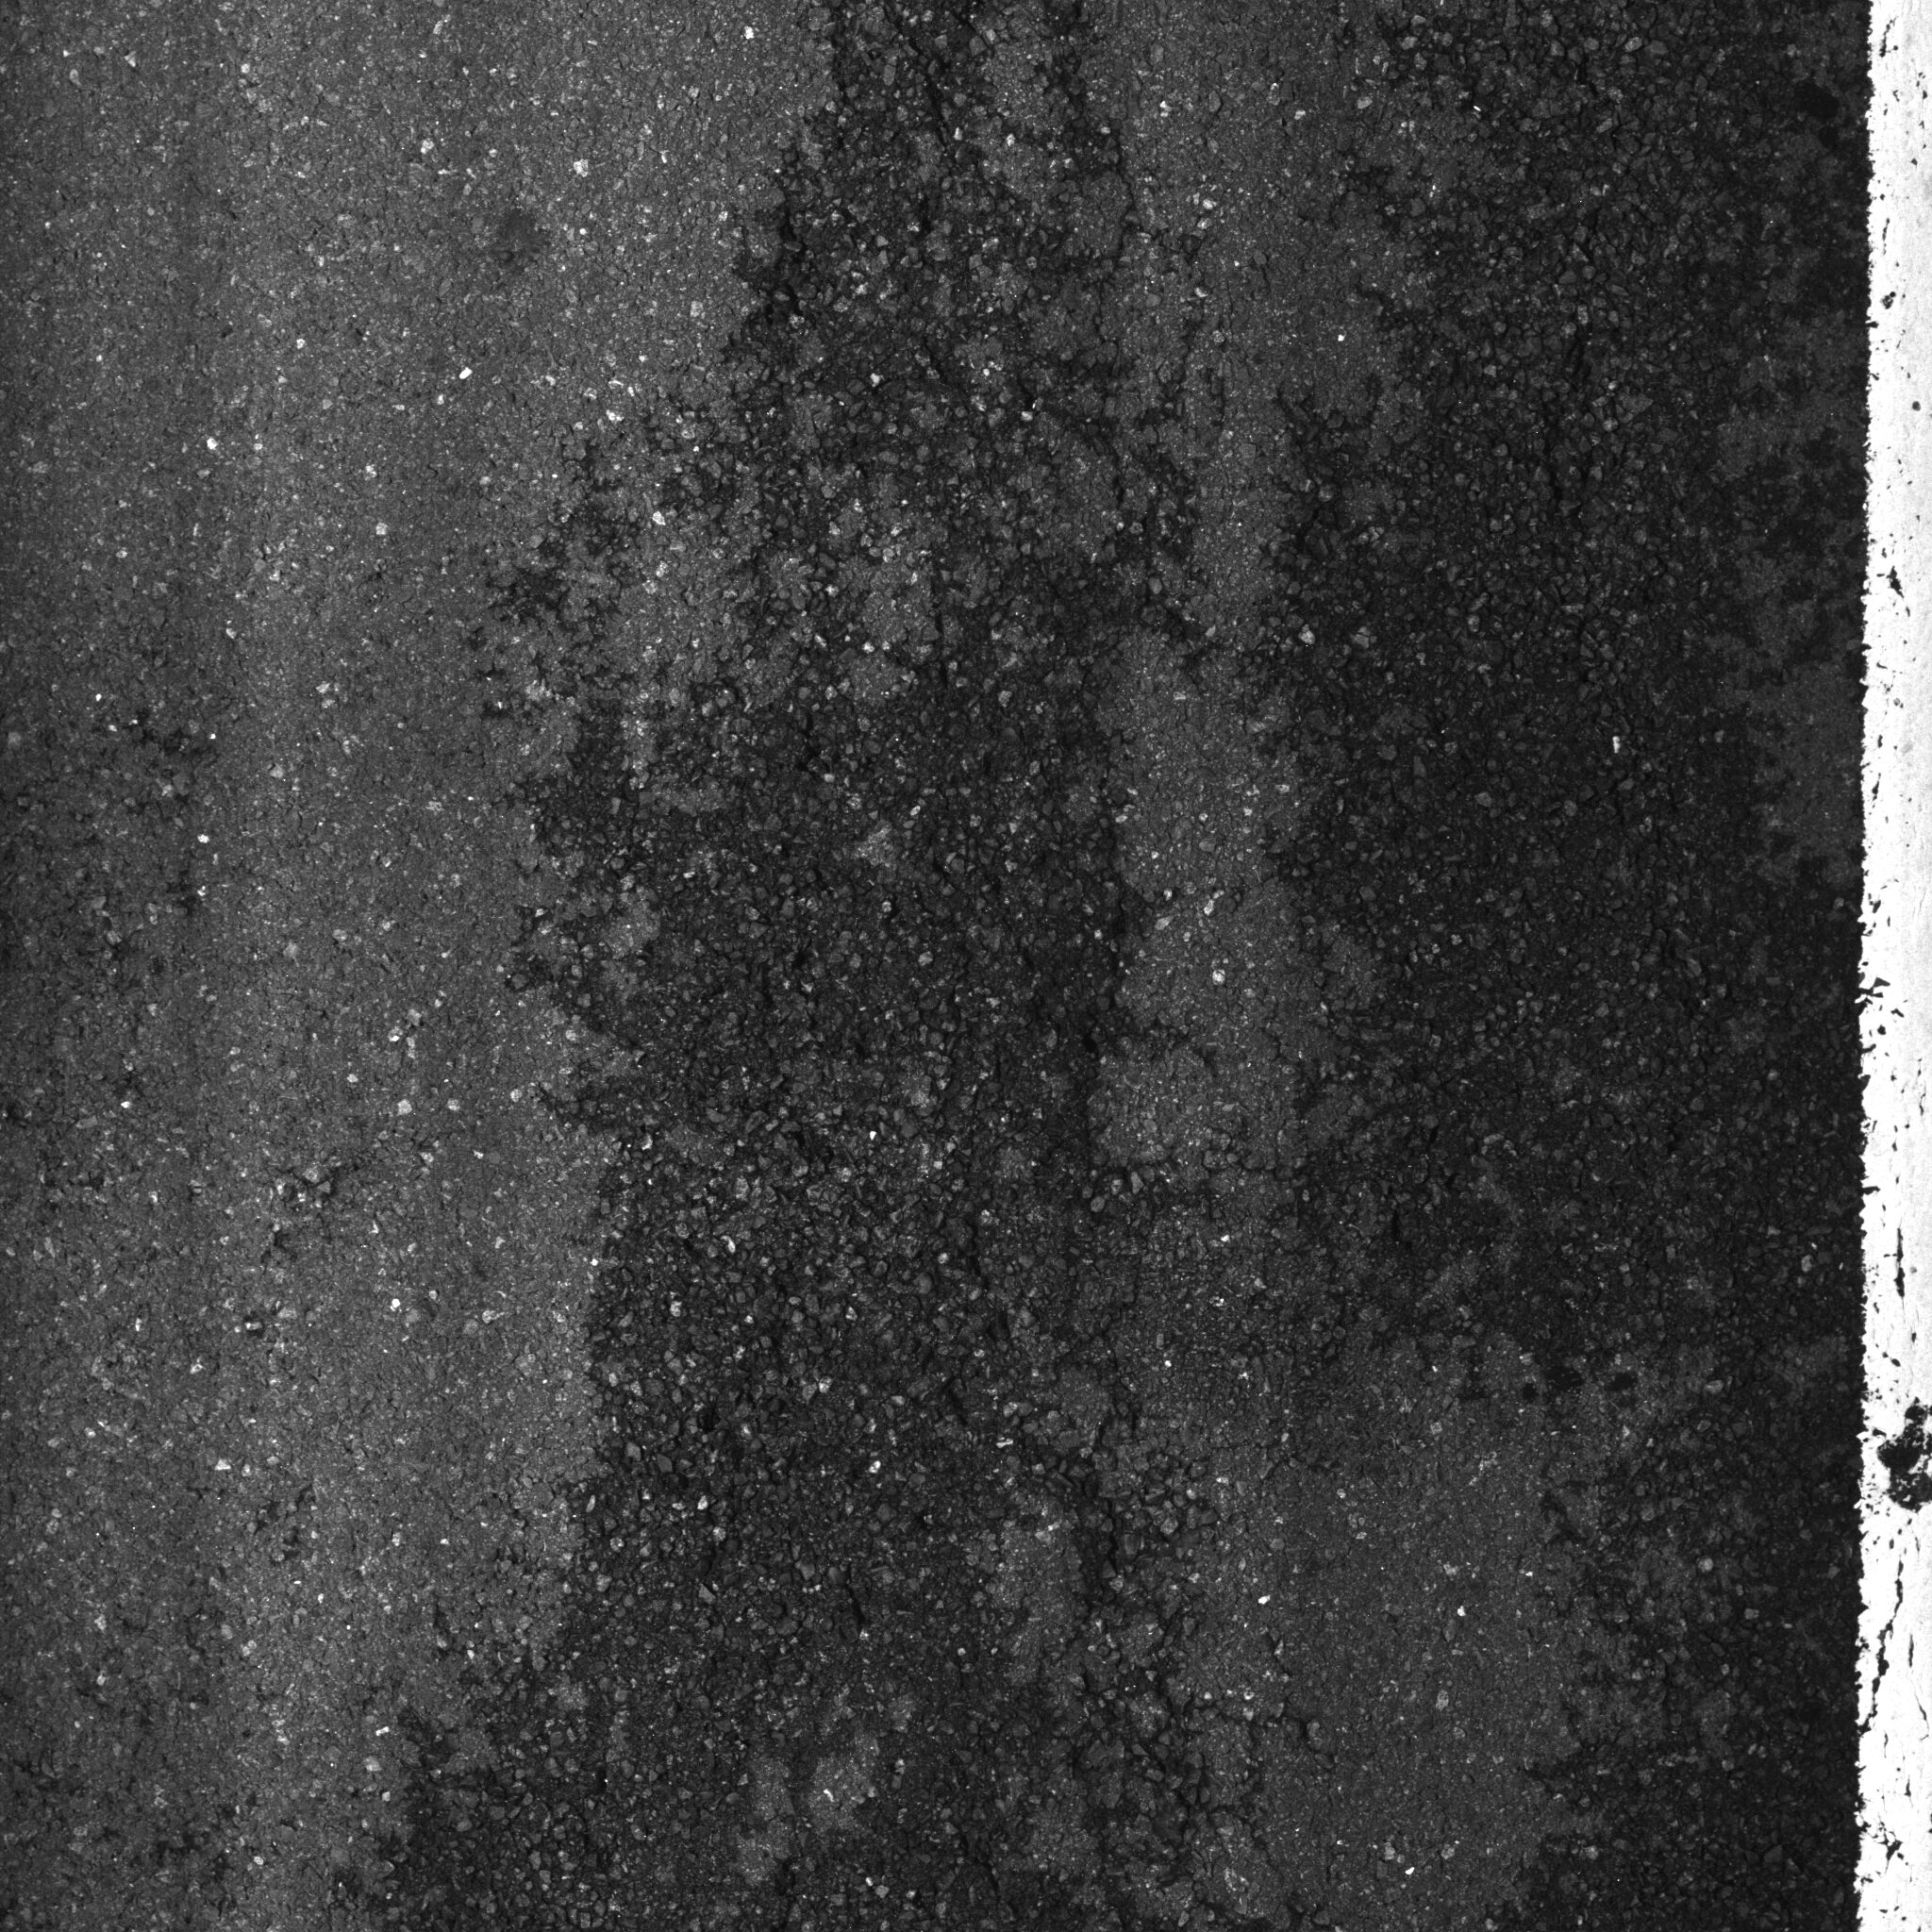alligator: (265, 16, 1575, 1921)
